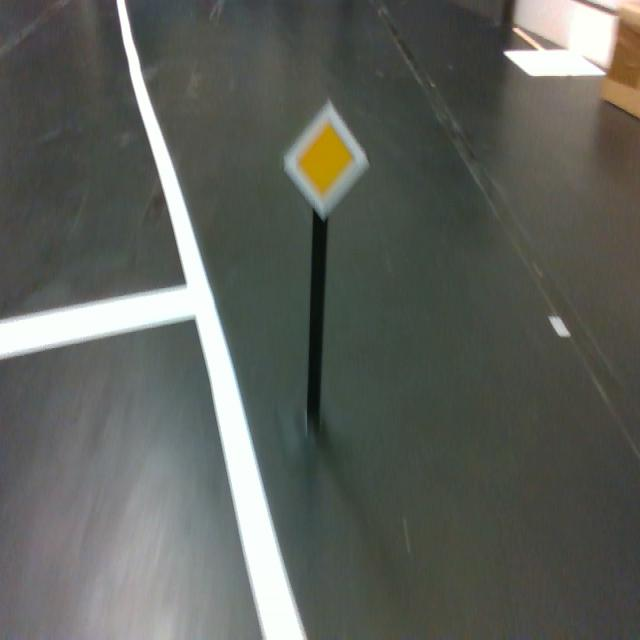priority-sign: (281, 97, 370, 222)
